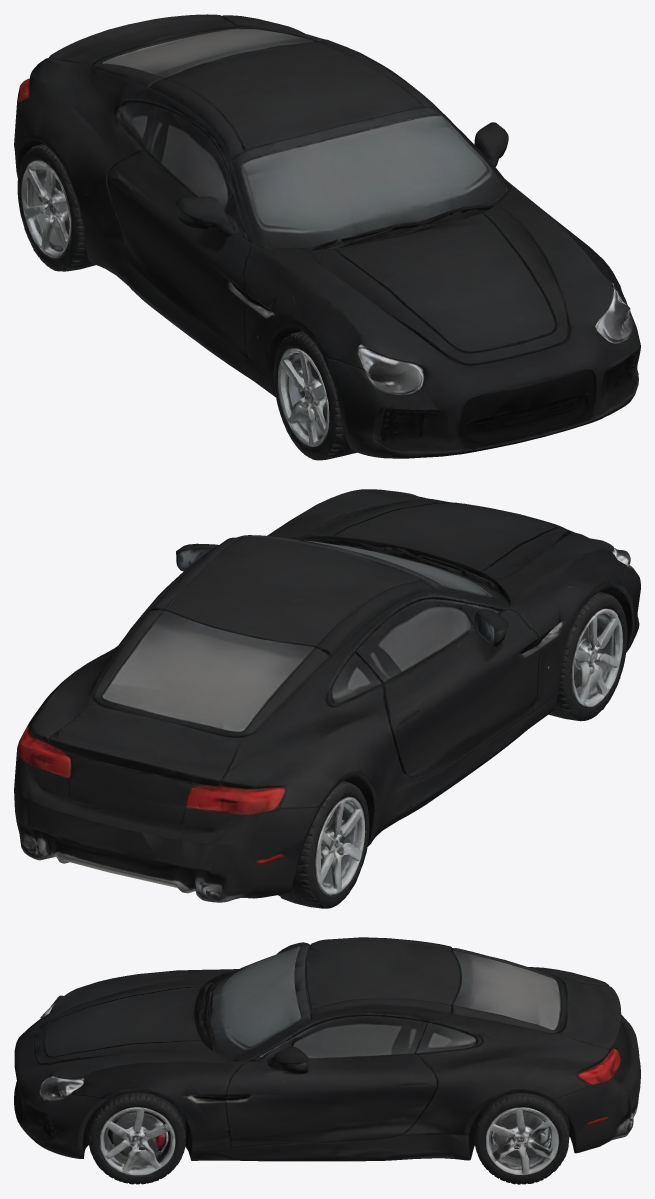
File: car.glb
3 views of the same model, one above another, from view 1: azimuth 30°, elevation 25°; view 2: azimuth 150°, elevation 25°; view 3: azimuth 270°, elevation 25° (orthographic). The views are drawn at different scales.
Parts seen in each view (by area): view 1: model; view 2: model; view 3: model.
Boxes of the visible parts, x1=… form: model: x1=14, y1=14, x2=640, y2=460; model: x1=14, y1=489, x2=640, y2=908; model: x1=14, y1=937, x2=640, y2=1184.
Bounding box in the file's own units: 0.8473 × 0.5567 × 1.9.
Materials: 1 (1 with a texture image).
